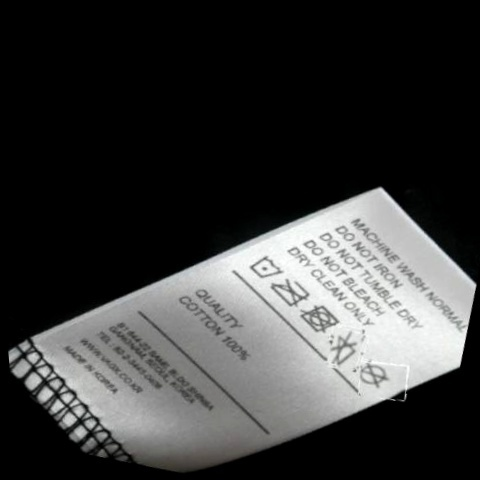30C: (251, 253, 282, 280)
DN_bleach: (330, 332, 366, 367)
DN_dry_clean: (357, 361, 391, 391)
DN_iron: (274, 277, 313, 309)
DN_tumble_dry: (301, 301, 342, 334)
